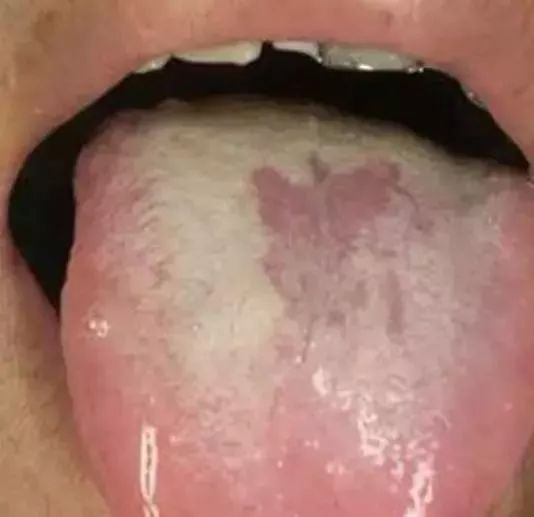baitaishe: (61, 96, 534, 517)
botaishe: (253, 144, 401, 307)
huataishe: (319, 361, 440, 517), (132, 410, 169, 517)
